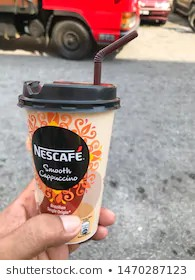nescafe-cappe: (20, 64, 119, 243)
